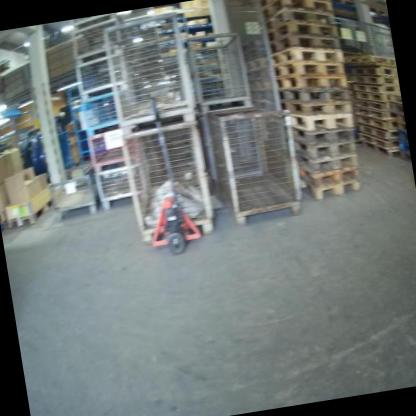pallet: (267, 16, 340, 46), (279, 79, 348, 109), (263, 4, 334, 33), (293, 132, 357, 164), (277, 69, 349, 96), (4, 195, 57, 231), (275, 56, 345, 83), (269, 31, 341, 57), (297, 143, 359, 173), (289, 104, 353, 133), (274, 43, 342, 70), (294, 118, 355, 148), (299, 174, 361, 203), (297, 161, 360, 189), (262, 0, 334, 23), (286, 95, 350, 118), (361, 135, 402, 165), (351, 69, 392, 99), (358, 123, 399, 151), (355, 86, 393, 112), (358, 109, 399, 131), (355, 99, 396, 120), (352, 53, 393, 71), (352, 63, 394, 80), (263, 0, 324, 9)
pallet_truck: (119, 86, 208, 261)
stillage: (99, 6, 201, 132), (120, 118, 219, 247), (202, 103, 303, 228), (188, 29, 253, 114), (95, 159, 152, 213), (72, 51, 132, 100), (84, 124, 143, 172), (80, 90, 136, 136), (49, 174, 98, 221), (67, 20, 124, 59), (67, 12, 120, 29)
